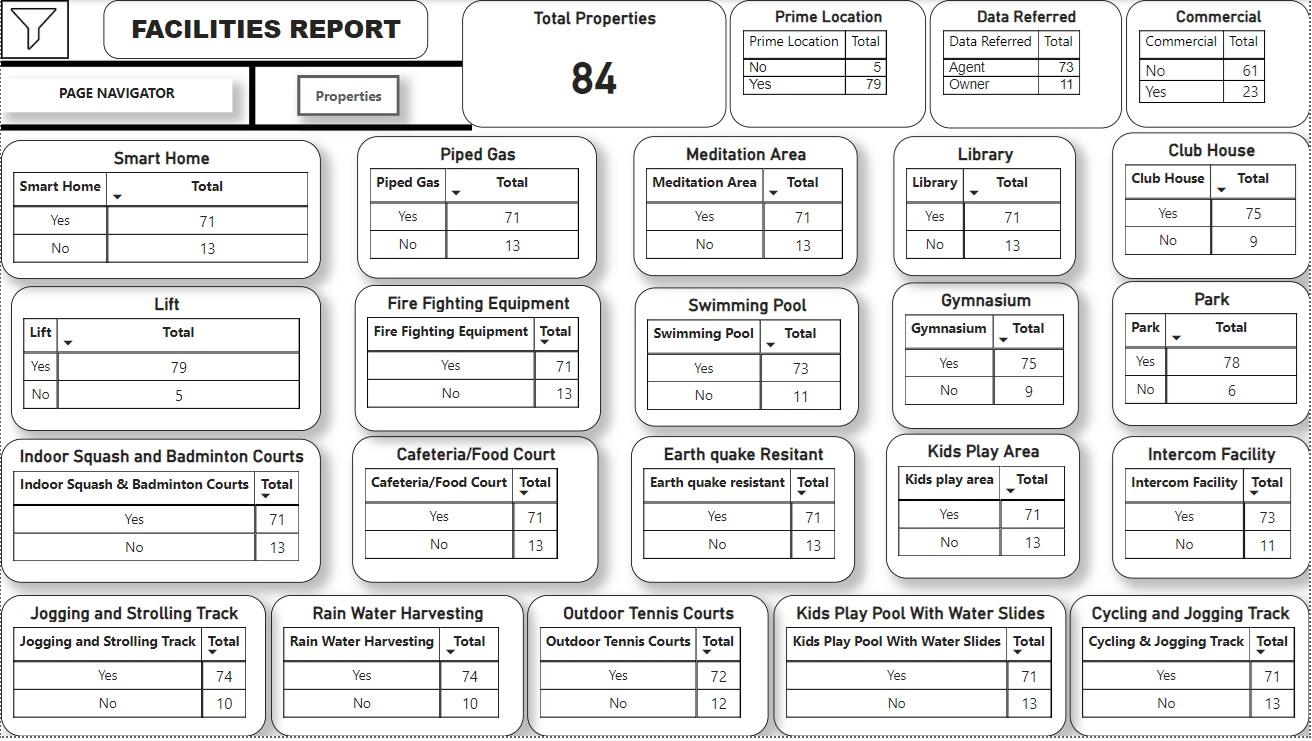

The page's visual inventory and layout, read from the dashboard file:
{"tool":"powerbi","page":{"name":"Facilites","canvas":[1280,720],"ordinal":1},"visuals":[{"type":"card","title":"Total Properties","fields":{"Values":["CountNonNull(properties.ID)"]},"box":[451.2,0,258,124.7],"z":0},{"type":"tableEx","title":"Commercial","fields":{"Values":["properties.Commercial","CountNonNull(properties.Commercial)"]},"box":[1100.2,0,179.8,124.7],"z":1000},{"type":"textbox","box":[99.7,0,317.9,57.5],"z":2000},{"type":"tableEx","title":"Data Referred","fields":{"Values":["properties.Data Referred From","CountNonNull(properties.Data Referred From)"]},"box":[908.9,0,187.8,125.2],"z":3000},{"type":"tableEx","title":"Prime Location","fields":{"Values":["properties.isPrimeLocationProperty","CountNonNull(properties.isPrimeLocationProperty)"]},"box":[713.1,0,192,124.7],"z":4000},{"type":"image","box":[0,0,66,57.5],"z":5000},{"type":"shape","box":[0,47.7,451.2,29.3],"z":9000},{"type":"shape","box":[0,110.1,461,29.3],"z":10000},{"type":"textbox","box":[0,77,226.2,33],"z":11000},{"type":"shape","box":[212.8,64.8,66,59.9],"z":12000},{"type":"actionButton","box":[289.8,73.4,100.3,40.4],"z":13000},{"type":"pivotTable","title":"Swimming Pool","fields":{"Rows":["properties.Swimming Pool"],"Values":["CountNonNull(properties.Swimming Pool)"]},"box":[620,280.6,218.9,135.7],"z":14000},{"type":"pivotTable","title":"Club House","fields":{"Rows":["properties.Club House"],"Values":["CountNonNull(properties.Club House)"]},"box":[1086.8,129.6,193.2,143.1],"z":15000},{"type":"pivotTable","title":"Gymnasium","fields":{"Rows":["properties.Gymnasium"],"Values":["CountNonNull(properties.Gymnasium)"]},"box":[871.9,275.7,182.2,143.1],"z":16000},{"type":"pivotTable","title":"Park","fields":{"Rows":["properties.Park"],"Values":["CountNonNull(properties.Park)"]},"box":[1086.8,275.1,193.2,141.8],"z":17000},{"type":"pivotTable","title":"Lift","fields":{"Rows":["properties.Lift"],"Values":["CountNonNull(properties.Lift)"]},"box":[9.8,280,303.3,141.8],"z":18000},{"type":"pivotTable","title":"Piped Gas","fields":{"Rows":["properties.Piped Gas"],"Values":["CountNonNull(properties.Piped Gas)"]},"box":[348.5,133.3,234.8,139.4],"z":19000},{"type":"pivotTable","title":"Earth quake Resitant","fields":{"Rows":["properties.Earth quake resistant"],"Values":["CountNonNull(properties.Earth quake resistant)"]},"box":[616.2,426.8,218.9,143.1],"z":20000},{"type":"pivotTable","title":"Cafeteria/Food Court","fields":{"Rows":["properties.Cafeteria/Food Court"],"Values":["CountNonNull(properties.Cafeteria/Food Court)"]},"box":[344.2,426.8,240.9,143.1],"z":21000},{"type":"pivotTable","title":"Indoor Squash and Badminton Courts","fields":{"Rows":["properties.Indoor Squash & Badminton Courts"],"Values":["CountNonNull(properties.Indoor Squash & Badminton Courts)"]},"box":[0,429.2,313,140.6],"z":22000},{"type":"pivotTable","title":"Smart Home","fields":{"Rows":["properties.Smart Home"],"Values":["CountNonNull(properties.Smart Home)"]},"box":[0,137,313,135.7],"z":23000},{"type":"pivotTable","title":"Library","fields":{"Rows":["properties.Library"],"Values":["CountNonNull(properties.Library)"]},"box":[873.1,133.3,178.5,137],"z":24000},{"type":"pivotTable","title":"Cycling and Jogging Track","fields":{"Rows":["properties.Cycling & Jogging Track"],"Values":["CountNonNull(properties.Cycling & Jogging Track)"]},"box":[1045.2,582.1,234.8,138.2],"z":25000},{"type":"pivotTable","title":"Intercom Facility","fields":{"Rows":["properties.Intercom Facility"],"Values":["CountNonNull(properties.Intercom Facility)"]},"box":[1086.8,426.8,193.2,139.4],"z":26000},{"type":"pivotTable","title":"Kids Play Area","fields":{"Rows":["properties.Kids play area"],"Values":["CountNonNull(properties.Kids play area)"]},"box":[866.1,424.3,189.5,141.8],"z":27000},{"type":"pivotTable","title":"Kids Play Pool With Water Slides","fields":{"Rows":["properties.Kids Play Pool With Water Slides"],"Values":["CountNonNull(properties.Kids Play Pool With Water Slides)"]},"box":[755.1,582.1,286.1,138.2],"z":28000},{"type":"pivotTable","title":"Outdoor Tennis Courts","fields":{"Rows":["properties.Outdoor Tennis Courts"],"Values":["CountNonNull(properties.Outdoor Tennis Courts)"]},"box":[514.8,582.1,236,138.2],"z":29000},{"type":"pivotTable","title":"Rain Water Harvesting","fields":{"Rows":["properties.Rain Water Harvesting"],"Values":["CountNonNull(properties.Rain Water Harvesting)"]},"box":[263.5,582.1,247,138.2],"z":30000},{"type":"pivotTable","title":"Jogging and Strolling Track","fields":{"Rows":["properties.Jogging and Strolling Track"],"Values":["CountNonNull(properties.Jogging and Strolling Track)"]},"box":[0,582.1,259.2,138.2],"z":31000},{"type":"pivotTable","title":"Fire Fighting Equipment","fields":{"Rows":["properties.Fire Fighting Equipment"],"Values":["CountNonNull(properties.Fire Fighting Equipment)"]},"box":[346.1,278.2,240.9,143.1],"z":32000},{"type":"pivotTable","title":"Meditation Area","fields":{"Rows":["properties.Meditation Area"],"Values":["CountNonNull(properties.Meditation Area)"]},"box":[618.8,133.3,218.9,137],"z":33000}]}

Visuals, with their boxes in screenshot pixels (x1, y1, x2, y2), scaled from the page's 1280x720 canvas onto the 1312x741 screenshot:
"Total Properties" card: 462, 0, 727, 128
"Commercial" tableEx: 1128, 0, 1311, 128
textbox: 102, 0, 428, 59
"Data Referred" tableEx: 932, 0, 1124, 129
"Prime Location" tableEx: 731, 0, 928, 128
image: 0, 0, 68, 59
shape: 0, 49, 462, 79
shape: 0, 113, 473, 143
textbox: 0, 79, 232, 113
shape: 218, 67, 286, 128
actionButton: 297, 76, 400, 117
"Swimming Pool" pivotTable: 636, 289, 860, 428
"Club House" pivotTable: 1114, 133, 1311, 281
"Gymnasium" pivotTable: 894, 284, 1080, 431
"Park" pivotTable: 1114, 283, 1311, 429
"Lift" pivotTable: 10, 288, 321, 434
"Piped Gas" pivotTable: 357, 137, 598, 281
"Earth quake Resitant" pivotTable: 632, 439, 856, 587
"Cafeteria/Food Court" pivotTable: 353, 439, 600, 587
"Indoor Squash and Badminton Courts" pivotTable: 0, 442, 321, 586
"Smart Home" pivotTable: 0, 141, 321, 281
"Library" pivotTable: 895, 137, 1078, 278
"Cycling and Jogging Track" pivotTable: 1071, 599, 1311, 740
"Intercom Facility" pivotTable: 1114, 439, 1311, 583
"Kids Play Area" pivotTable: 888, 437, 1082, 583
"Kids Play Pool With Water Slides" pivotTable: 774, 599, 1067, 740
"Outdoor Tennis Courts" pivotTable: 528, 599, 770, 740
"Rain Water Harvesting" pivotTable: 270, 599, 523, 740
"Jogging and Strolling Track" pivotTable: 0, 599, 266, 740
"Fire Fighting Equipment" pivotTable: 355, 286, 602, 434
"Meditation Area" pivotTable: 634, 137, 859, 278
